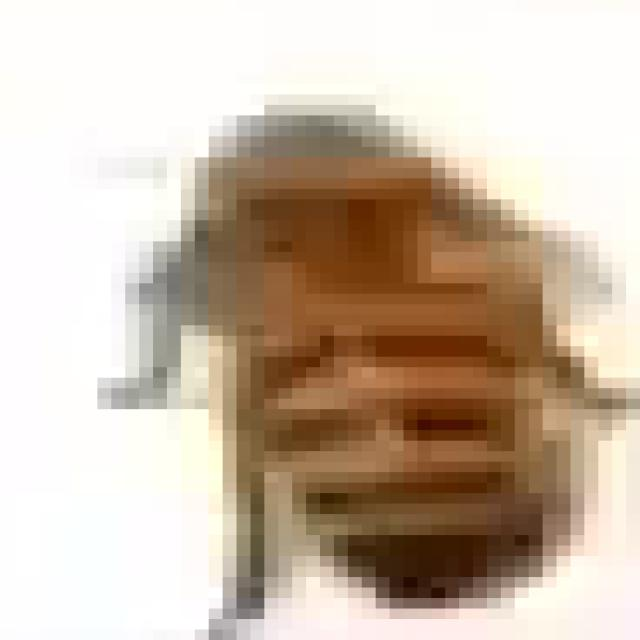honeybee: (163, 91, 608, 613)
